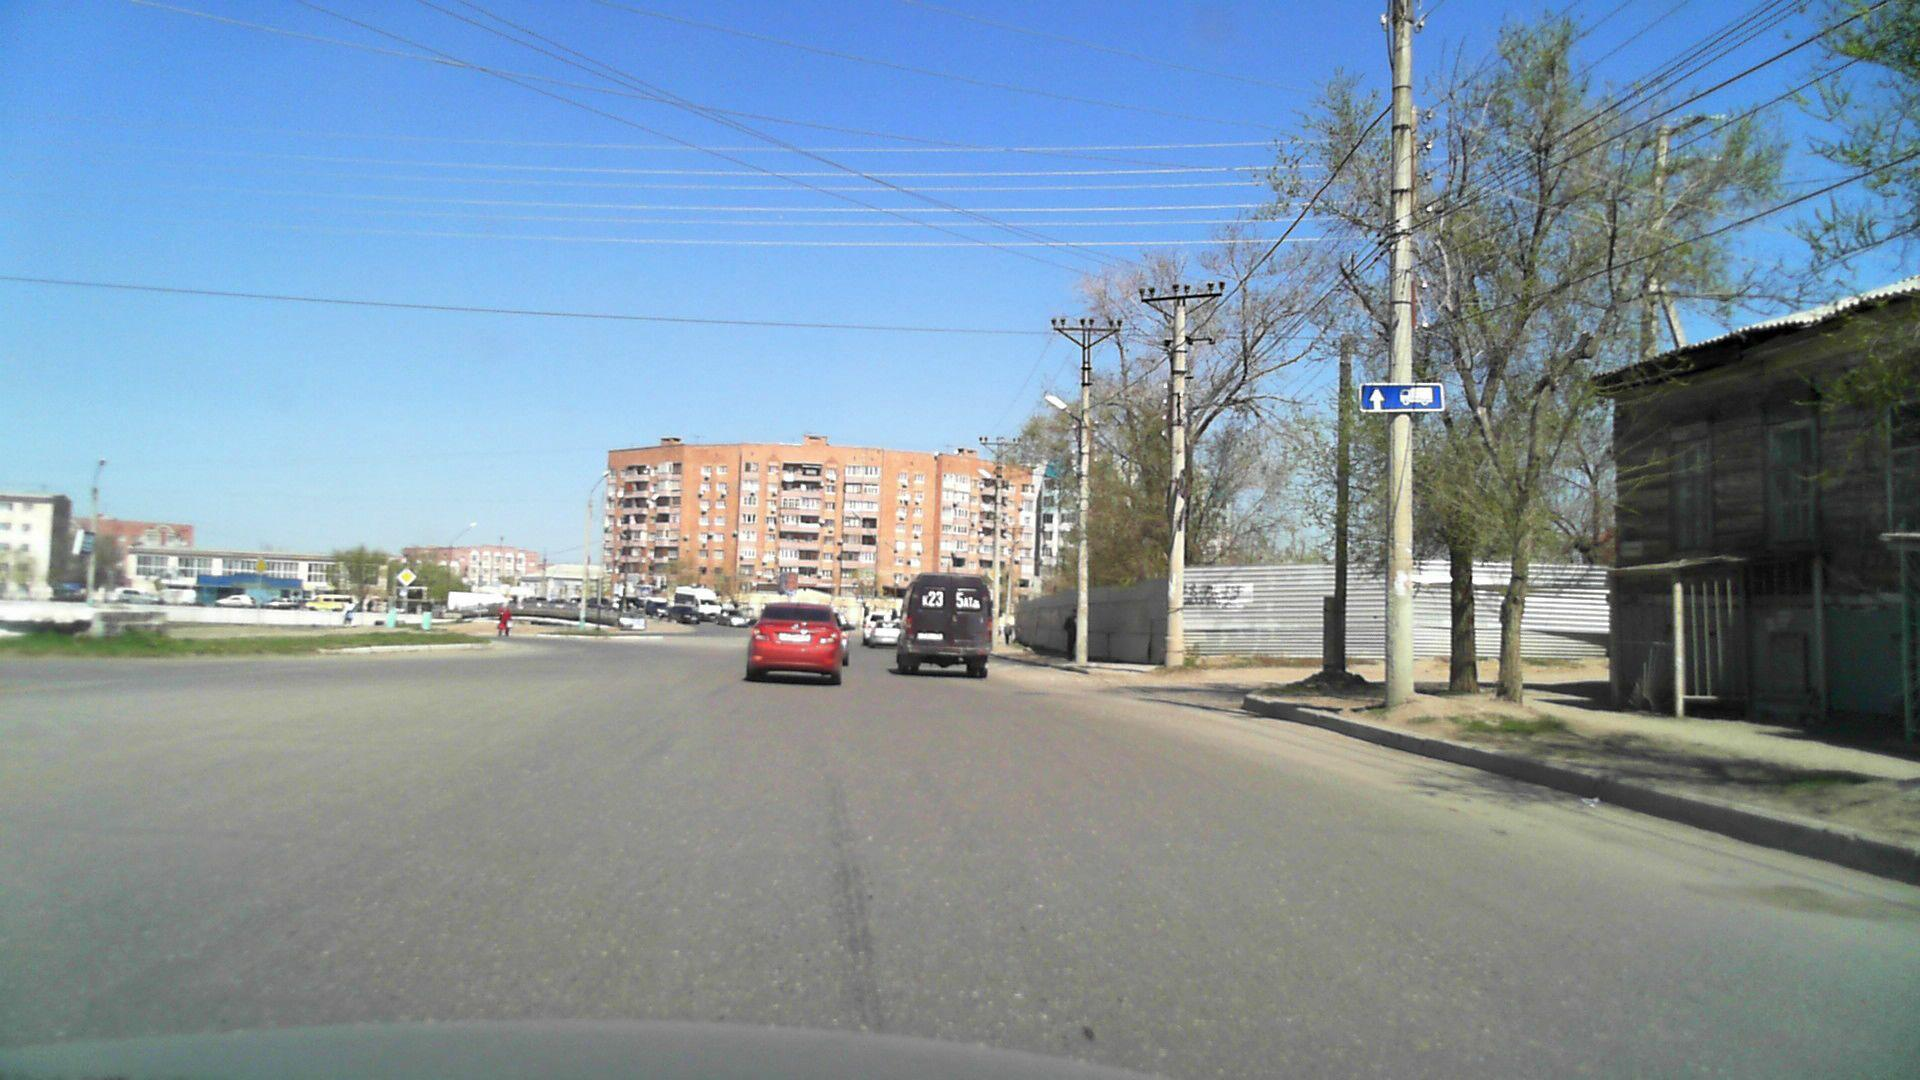2_1: (396, 567, 419, 587), (255, 558, 268, 576)
6_15_1: (1360, 382, 1445, 411)
